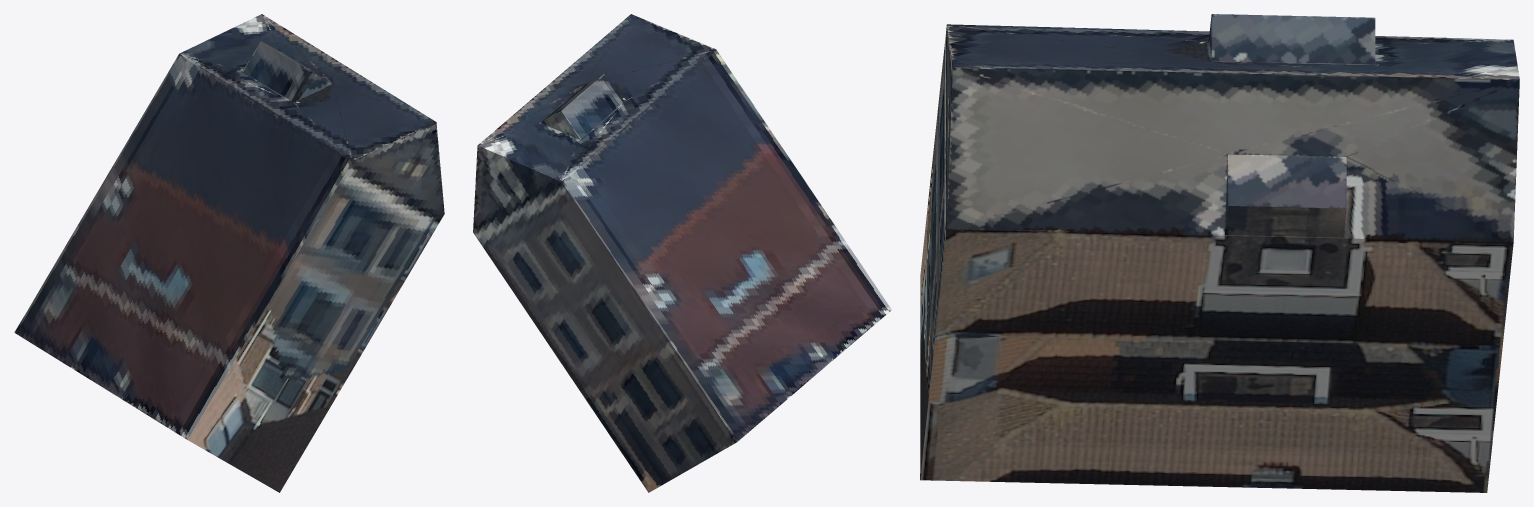
The picture shows the model from 3 angles, left to right: view 1: azimuth 30°, elevation 25°; view 2: azimuth 150°, elevation 25°; view 3: azimuth 270°, elevation 25°; orthographic projection. The views are drawn at different scales.
Visible parts, largest first — view 1: BAG_0599100000688739 (×5); view 2: BAG_0599100000688739 (×5); view 3: BAG_0599100000688739 (×5).
Boxes of the visible parts, x1,y1,x2,y2 form: BAG_0599100000688739 (×5): [14, 14, 444, 492]; BAG_0599100000688739 (×5): [473, 14, 891, 492]; BAG_0599100000688739 (×5): [920, 14, 1519, 492].
Bounding box in the file's own units: 12.03 × 13.65 × 12.72.
Materials: 1 (1 with a texture image).
